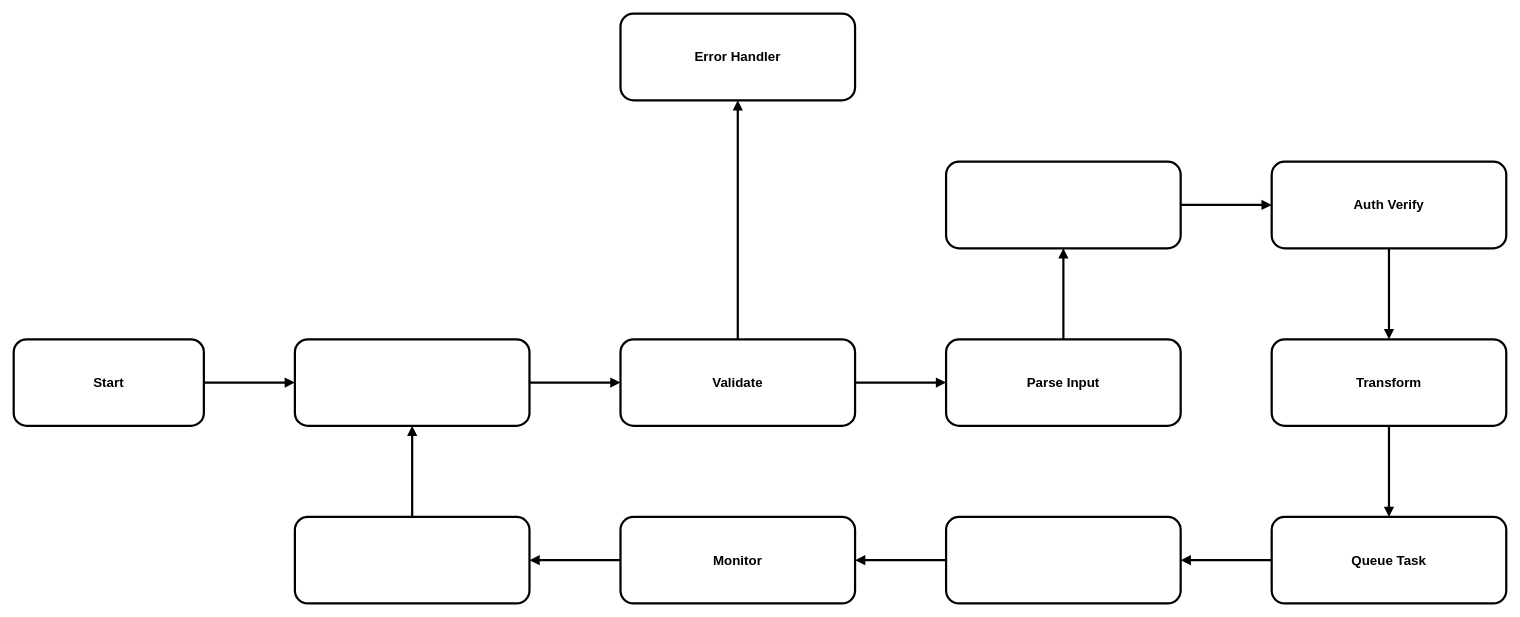
This 1520x617 diagram has some shape labels left out. Here are the shapes that lost their labels. From the top down, the centre of each, then its label:
At (x=1063, y=204): "Check Rules".
At (x=411, y=382): "Load Data".
At (x=411, y=559): "Complete".
At (x=1063, y=559): "Execute".
